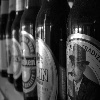beer: (21, 1, 37, 98)
